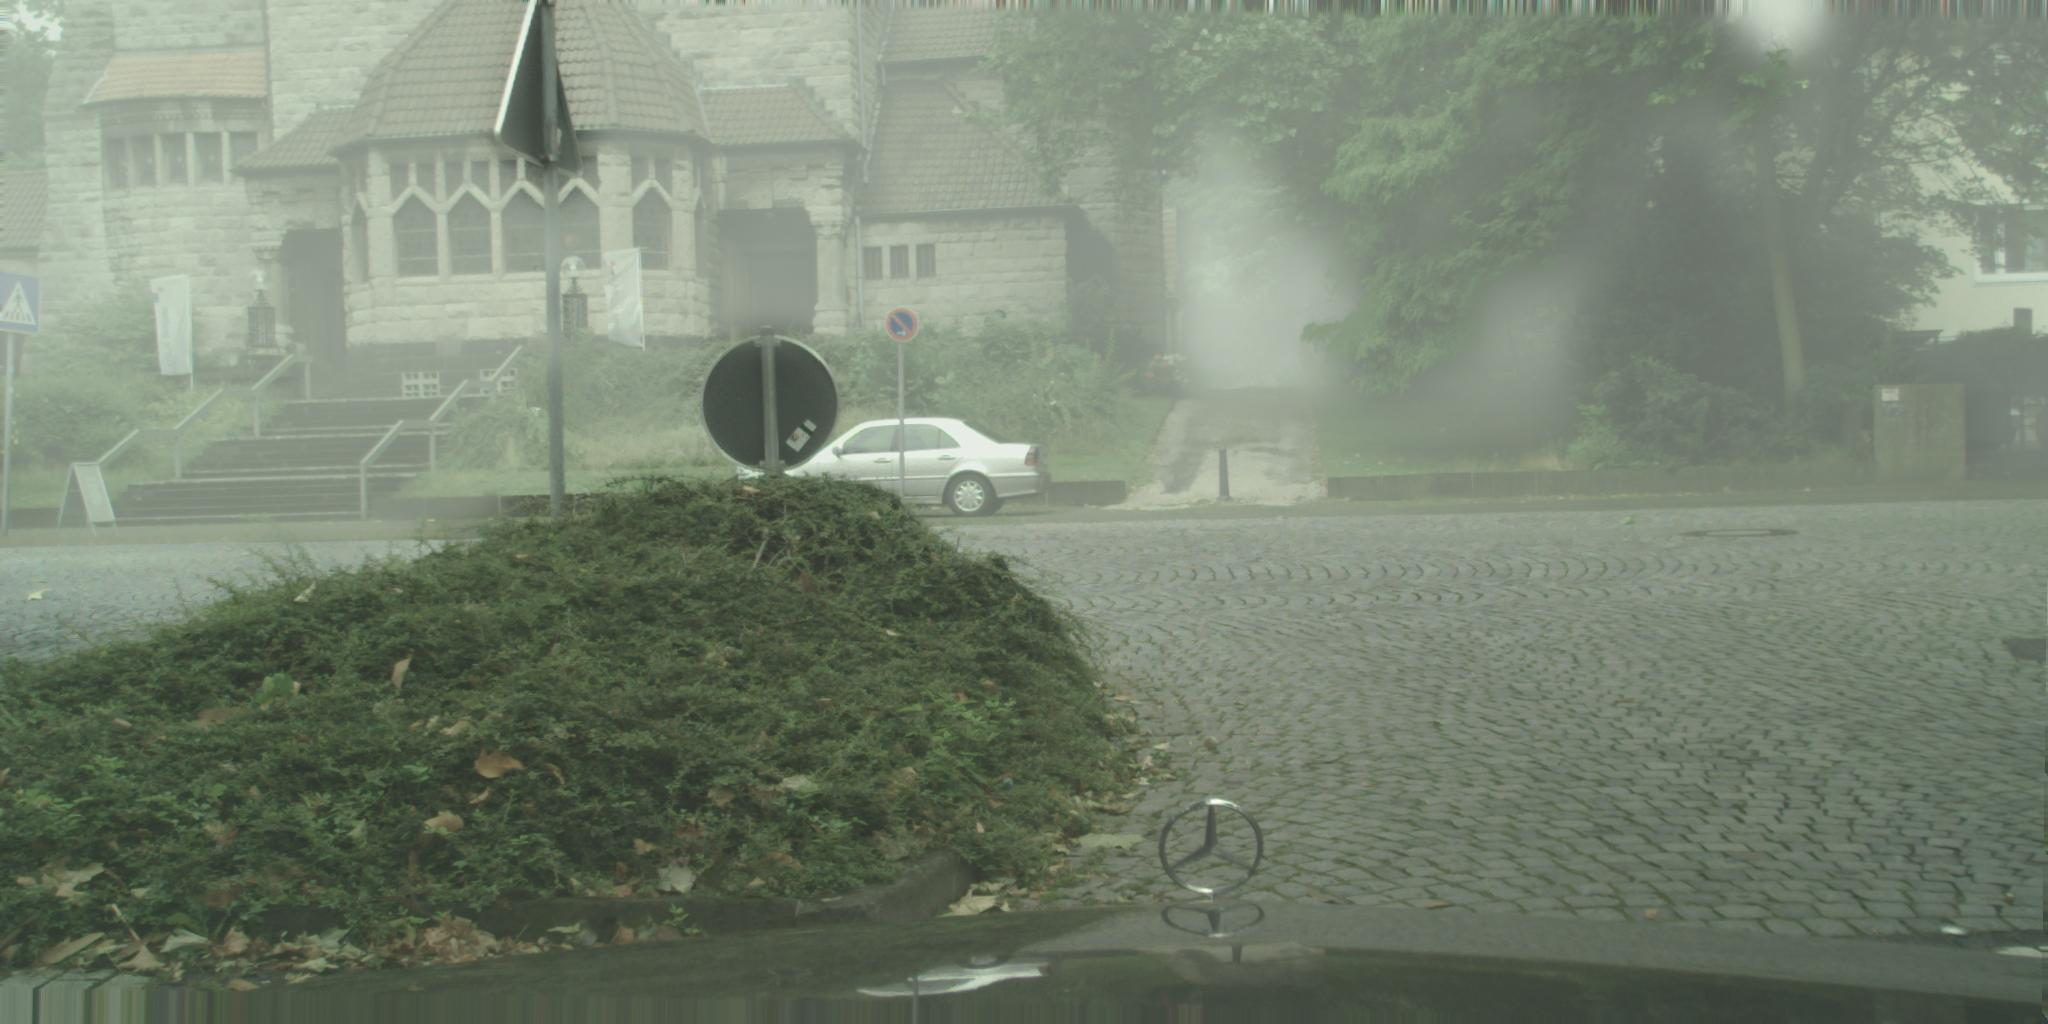car: (735, 418, 1051, 519)
